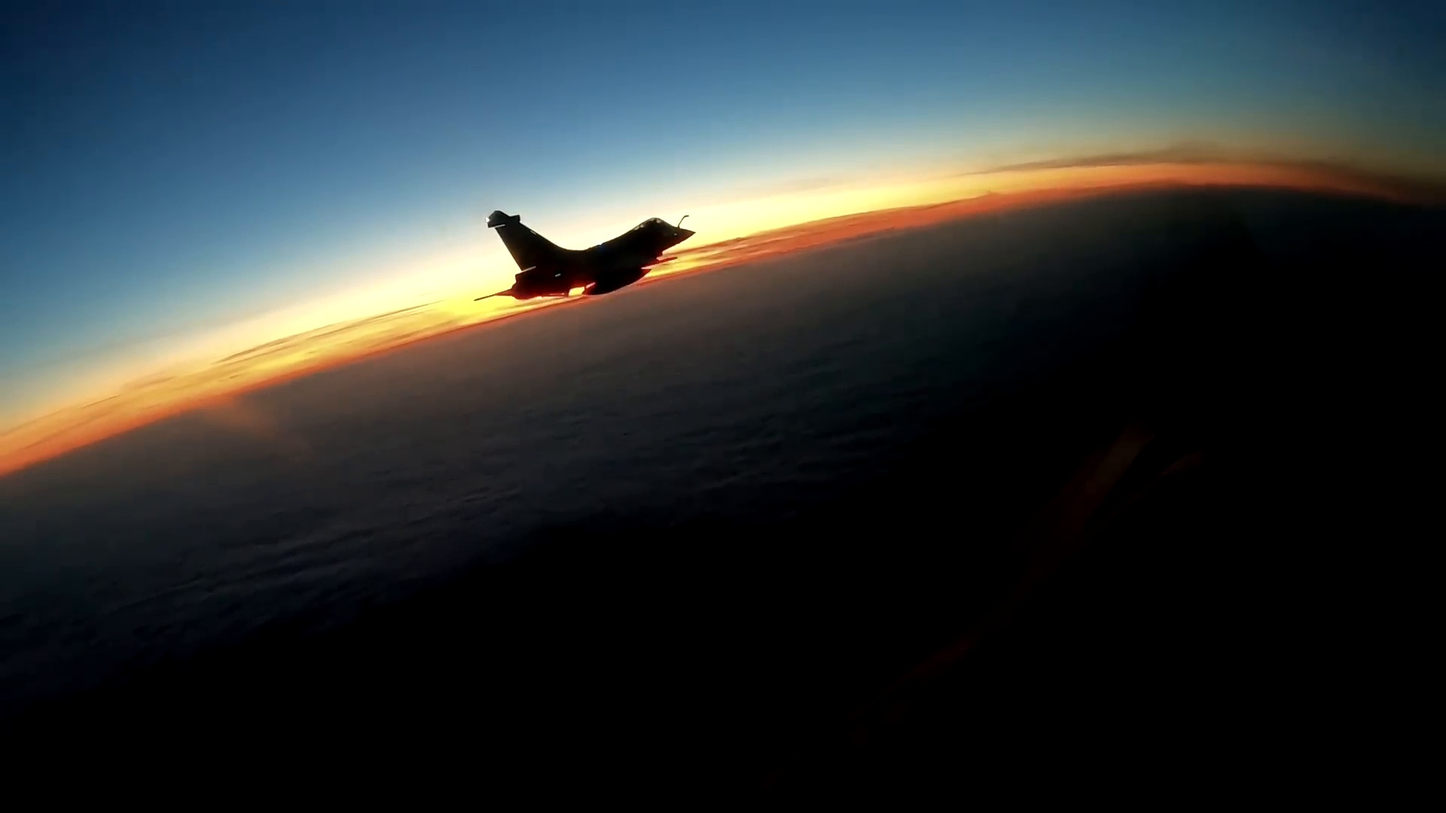Rafale: (472, 209, 696, 301)
